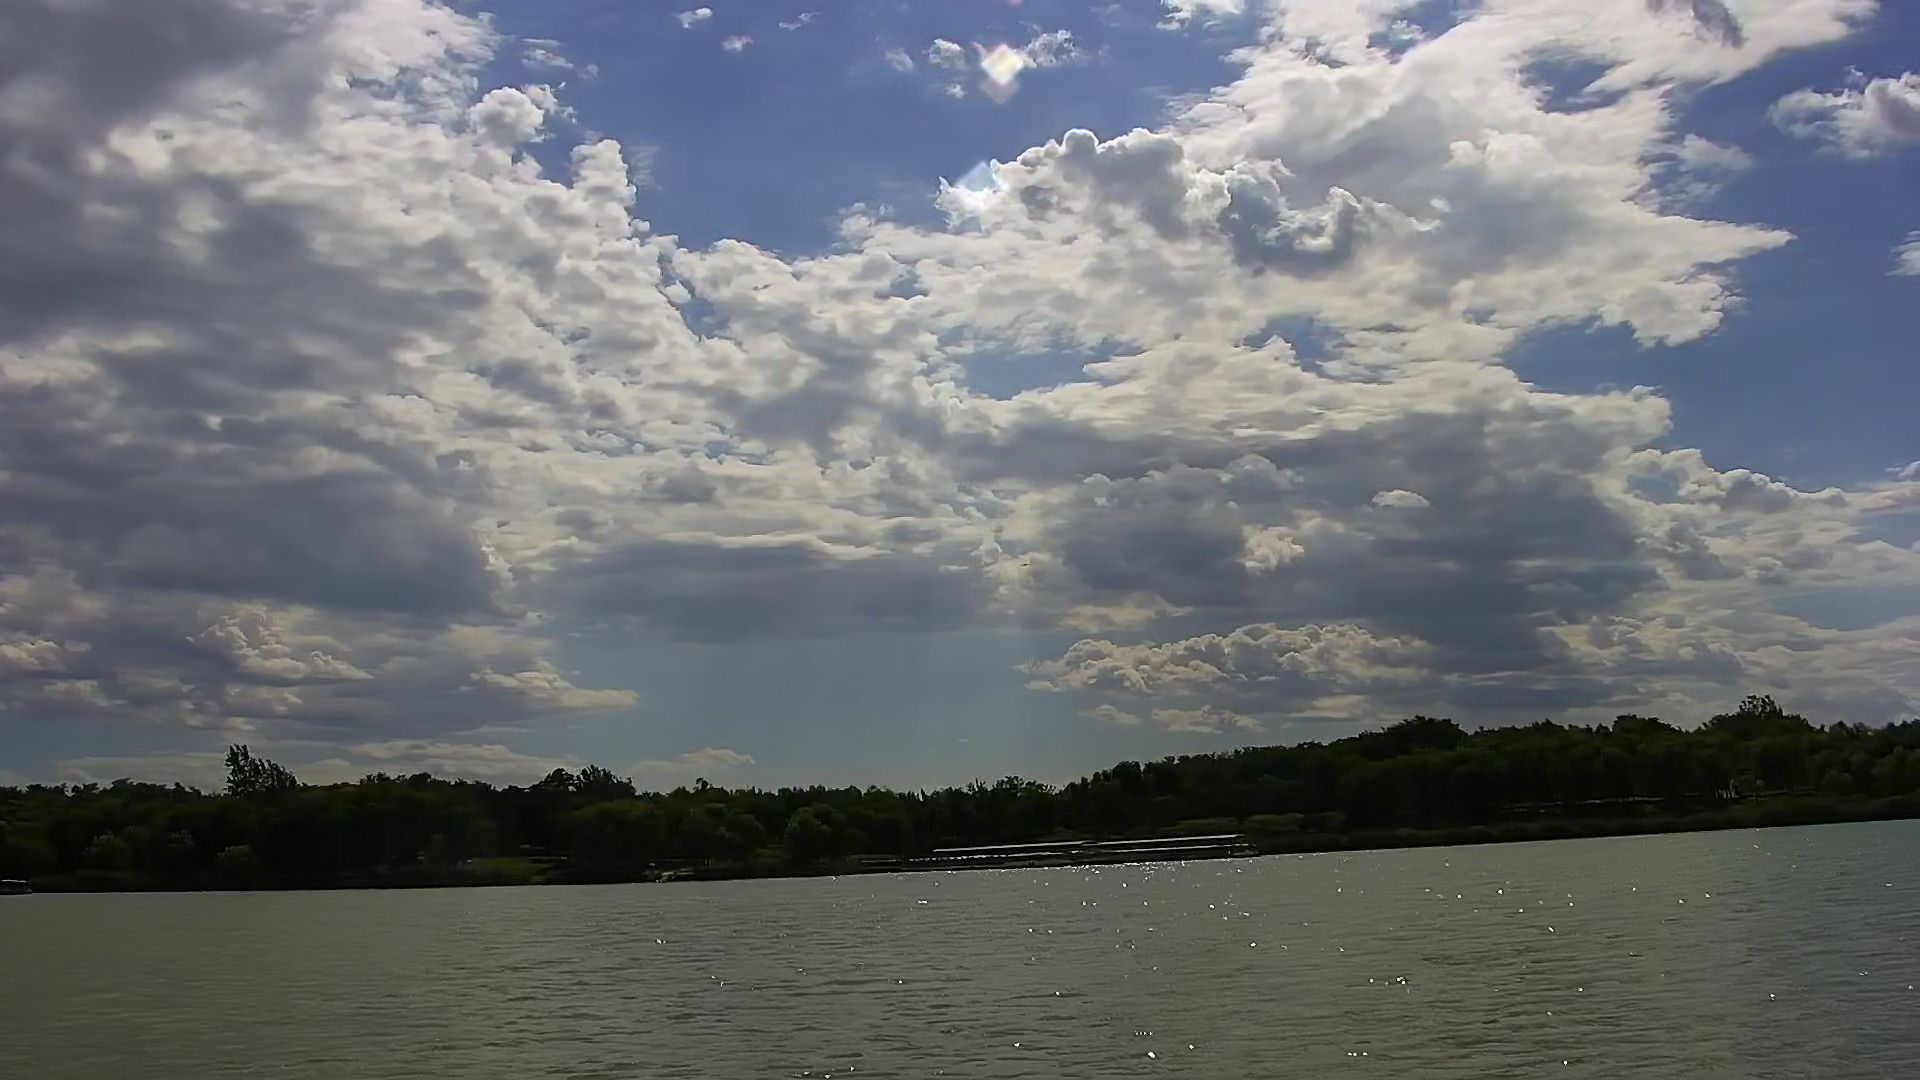harbor: (920, 831, 1253, 873)
